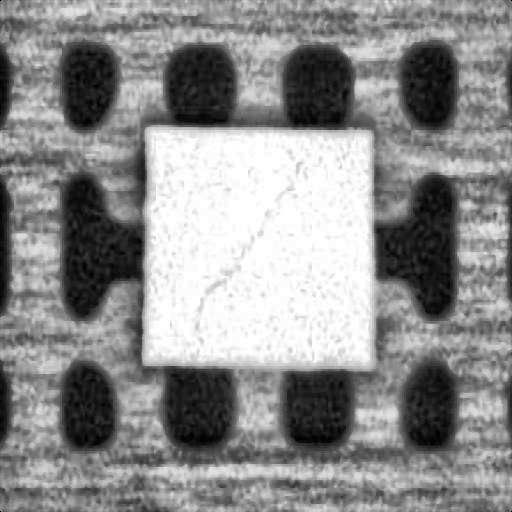DIE_CRACK: (191, 146, 310, 316)
